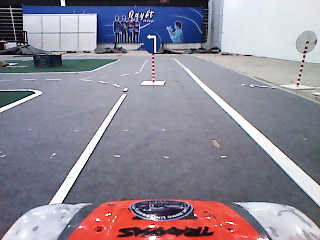turn: (144, 31, 161, 54)
